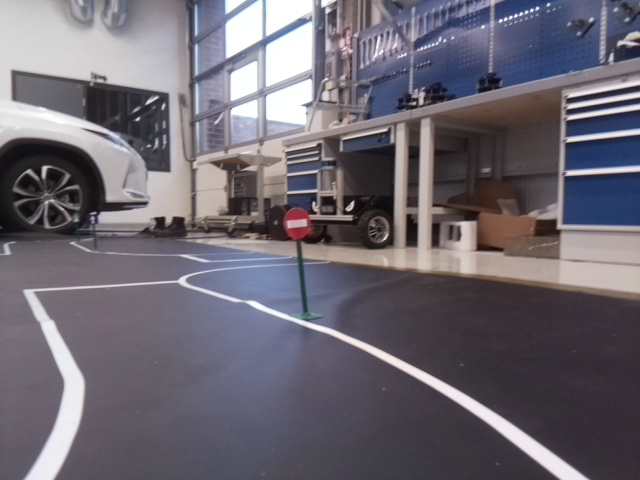NoEntry: (281, 207, 310, 237)
